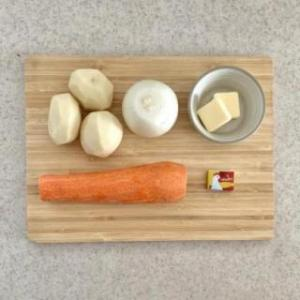carrot: (38, 162, 188, 204)
onion: (119, 78, 179, 140)
potato: (66, 68, 113, 109), (82, 110, 122, 158), (46, 92, 80, 148)
